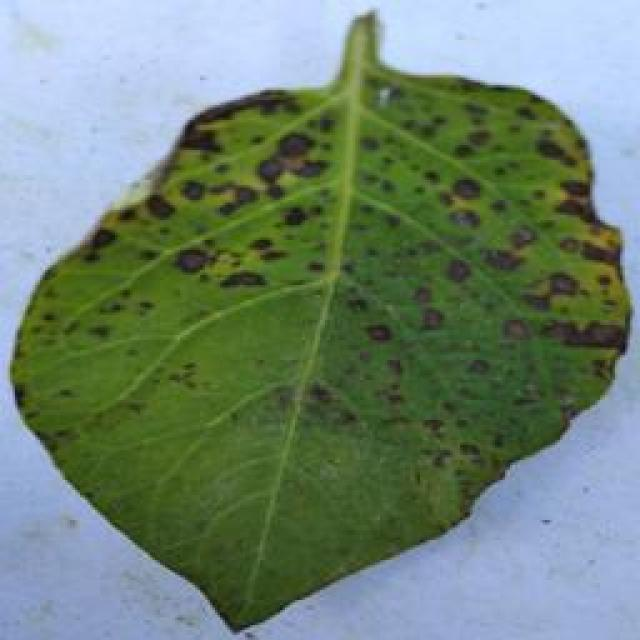Potato_Early_Blight: (3, 14, 635, 638)
